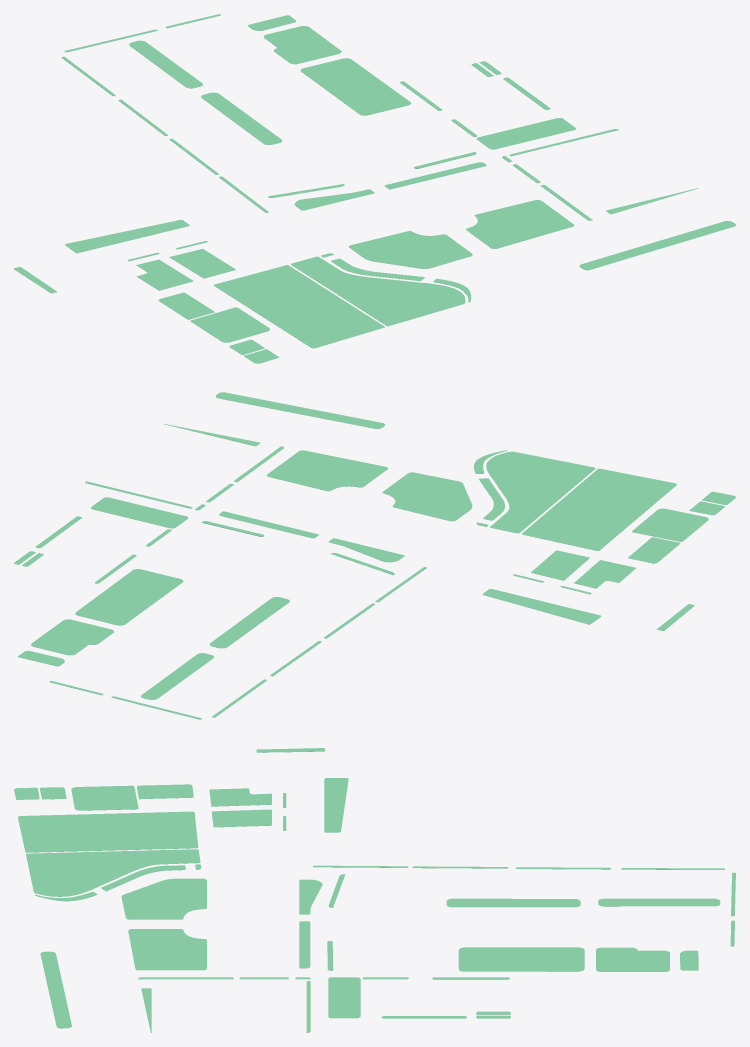
Rendered from grass.glb.
3 views of the same model, one above another, from view 1: azimuth 30°, elevation 25°; view 2: azimuth 150°, elevation 25°; view 3: azimuth 270°, elevation 25° (orthographic). The views are drawn at different scales.
Visible parts, largest first — view 1: grass-merge; view 2: grass-merge; view 3: grass-merge.
Boxes of the visible parts, bbox=[...] form: grass-merge: bbox=[14, 14, 735, 363]; grass-merge: bbox=[14, 392, 735, 719]; grass-merge: bbox=[14, 748, 735, 1032].
Size of the model in its own units: 352 by 0.1999 by 377.
